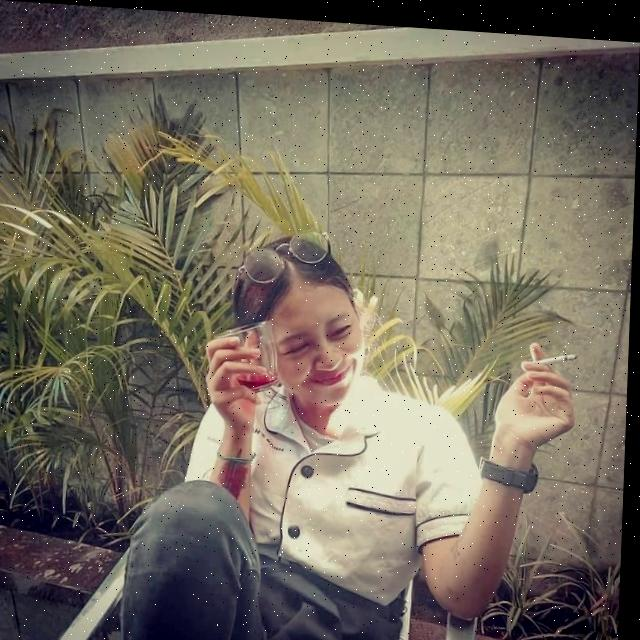cigarette: (538, 342, 581, 359)
